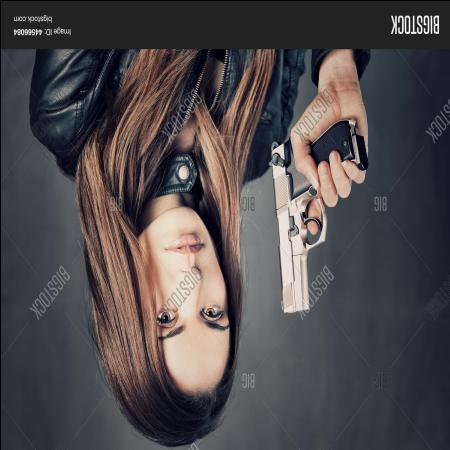Pistol: (266, 113, 364, 314)
